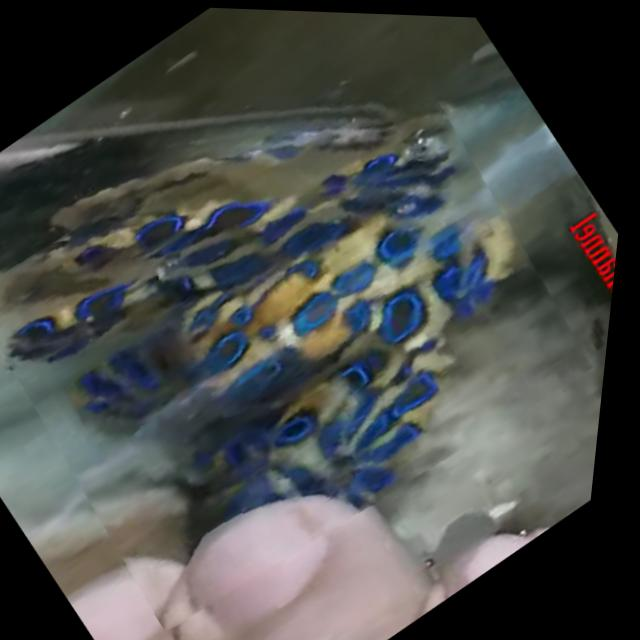blue_ringed_octopus: (0, 3, 637, 640)
